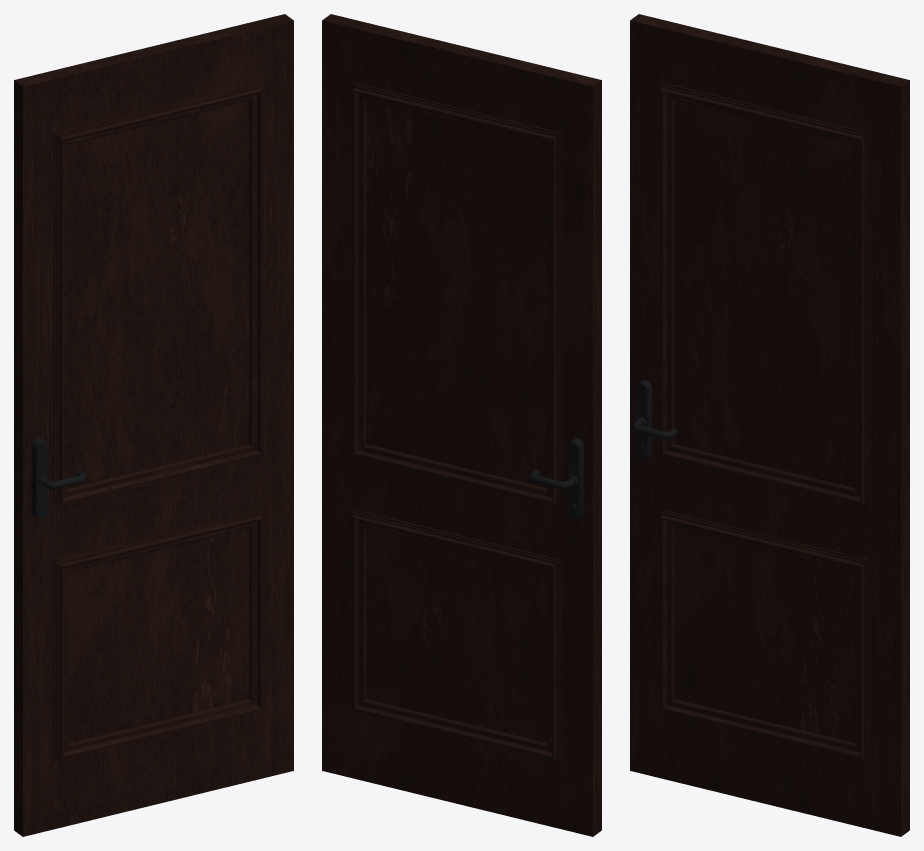
File: door_outside.glb
The picture shows the model from 3 angles, left to right: view 1: azimuth 30°, elevation 25°; view 2: azimuth 150°, elevation 25°; view 3: azimuth 330°, elevation 25°; orthographic projection.
Visible parts, largest first — view 1: Layer:1 body, Layer:1 decor, Layer:2 bulan; view 2: Layer:1 body, Layer:1 decor, Layer:2 bulan; view 3: Layer:1 body, Layer:1 decor, Layer:2 bulan.
Part boxes in pixels (<box>): Layer:1 body: <box>14,14,293,836</box>; Layer:1 decor: <box>53,82,263,761</box>; Layer:2 bulan: <box>31,438,47,518</box>; Layer:1 body: <box>322,14,601,836</box>; Layer:1 decor: <box>352,82,562,761</box>; Layer:2 bulan: <box>568,438,584,518</box>; Layer:1 body: <box>630,14,909,836</box>; Layer:1 decor: <box>660,82,870,761</box>; Layer:2 bulan: <box>636,379,652,460</box>.
Size of the model in its own units: 0.79 by 2.09 by 0.185.
Materials: 4 (4 with a texture image).
